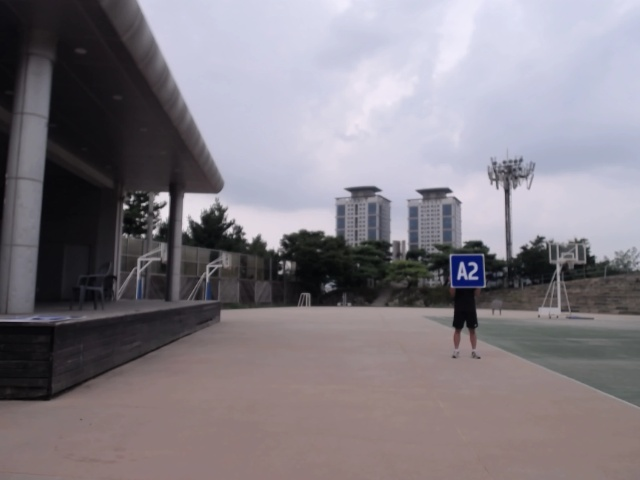delivery_a2: (450, 254, 485, 288)
